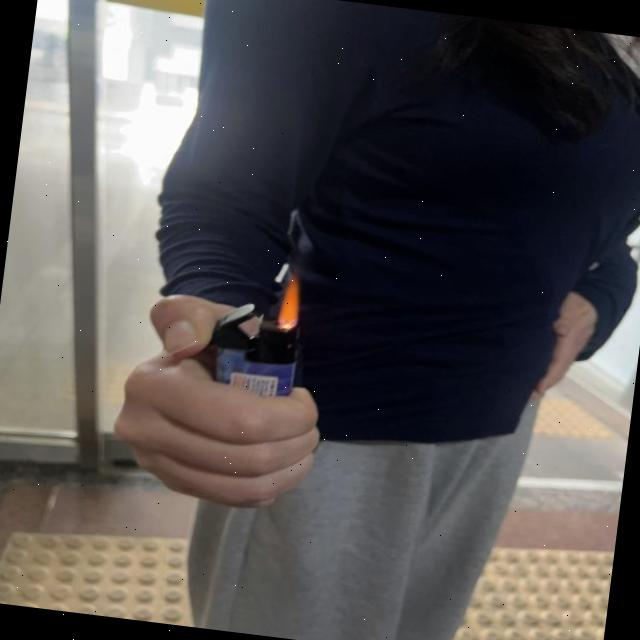fire: (276, 268, 306, 336)
